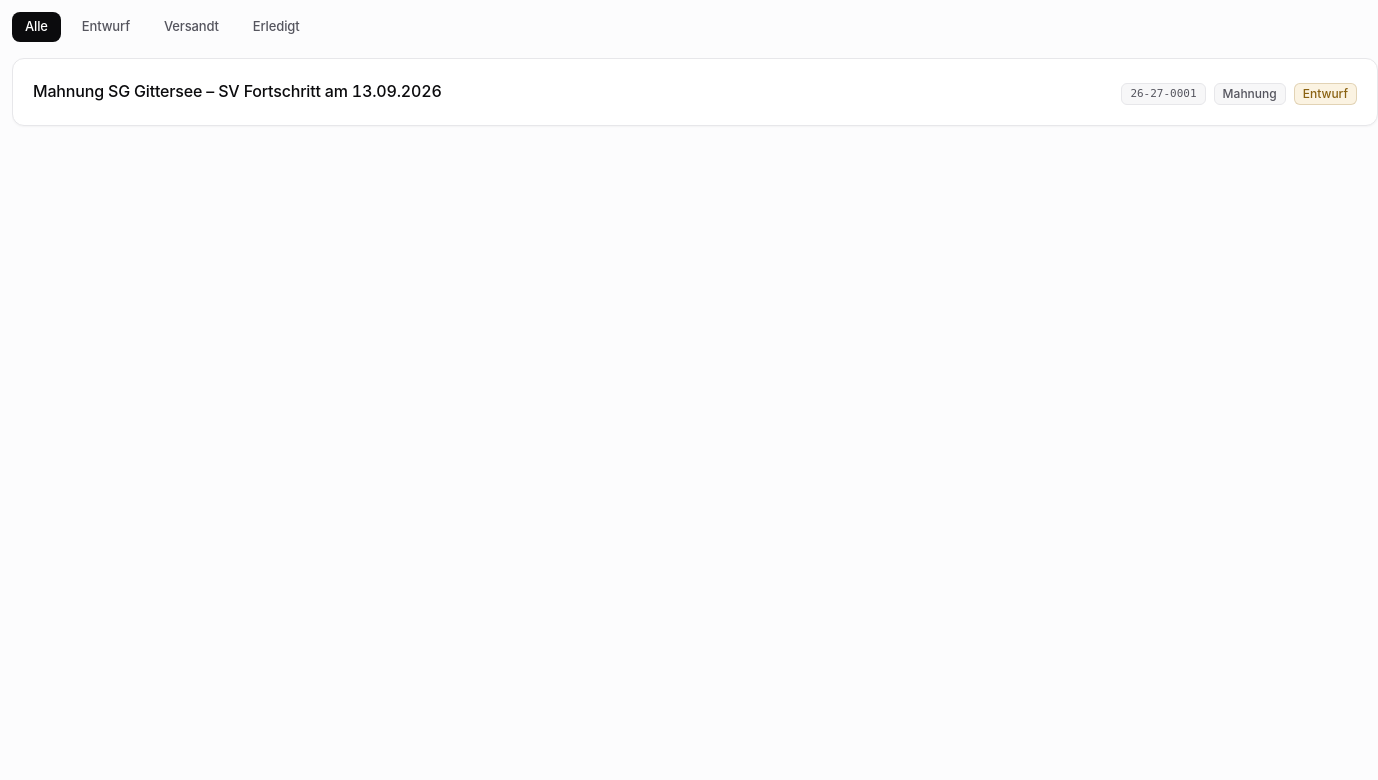
Test: Ein Vorgang › zeigt die Meldung des Backends bei einem unmöglichen Schritt
The image size is (1378, 780).
Click the 5th button at (237, 91), box [33,79,1357,105]
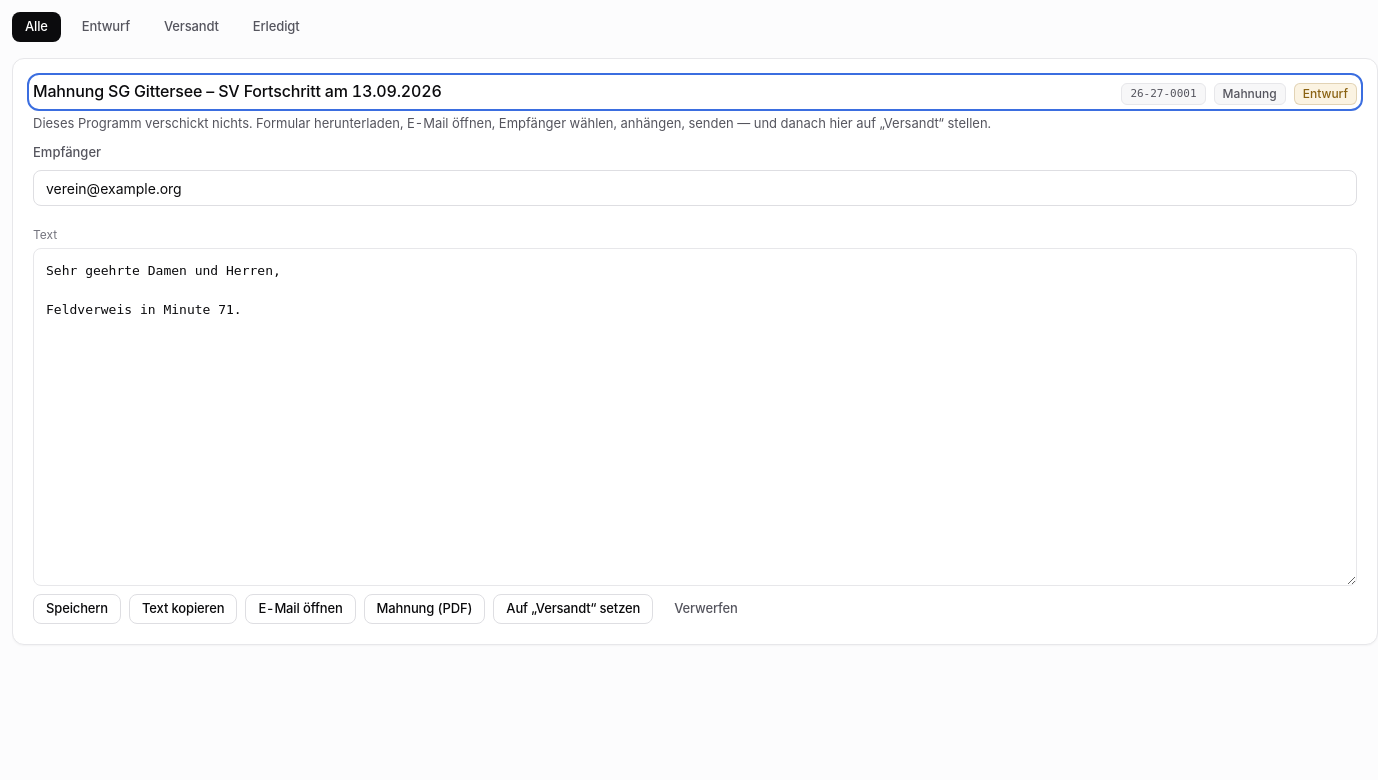
Click the button "Auf „Versandt“ setzen" at (573, 609), box [493,594,653,624]
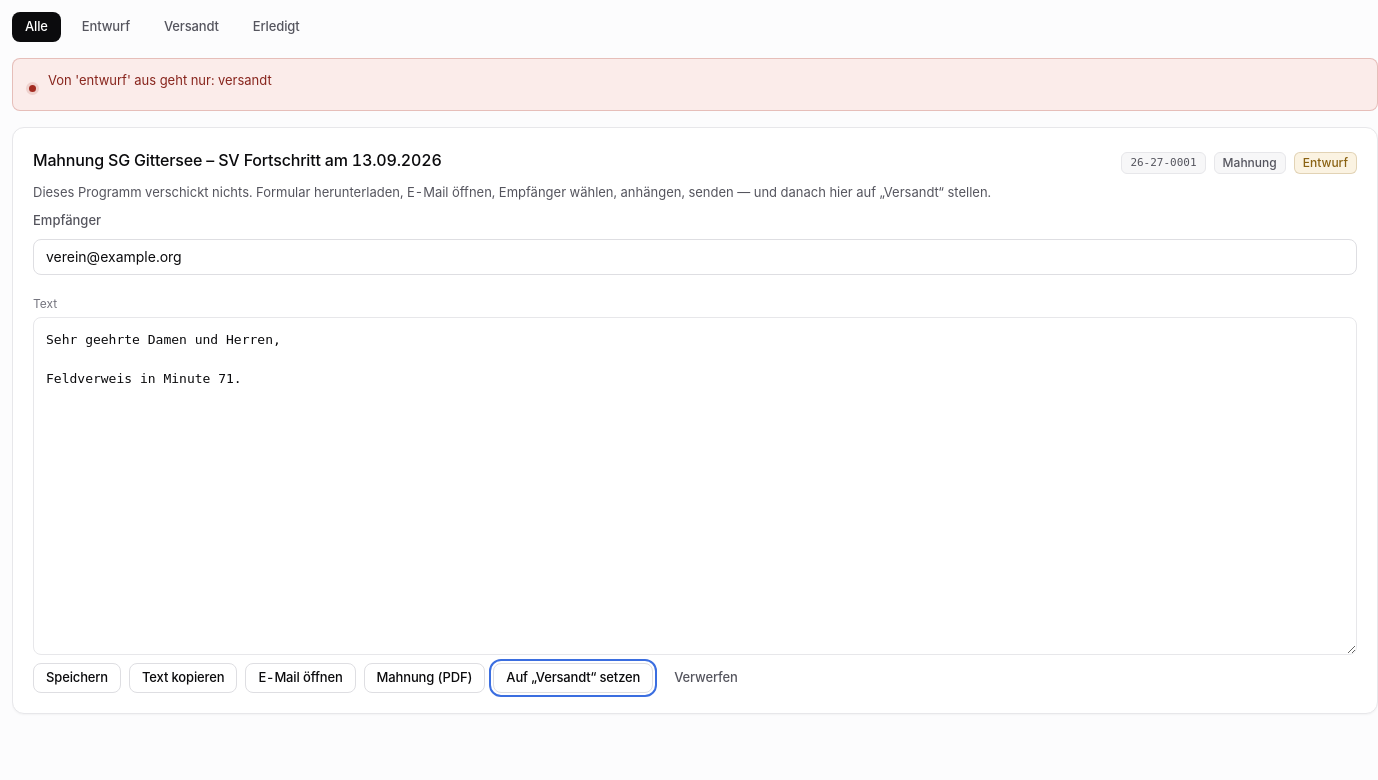
Result: the message shows "geht nur: versandt" at [48,72,272,88]
